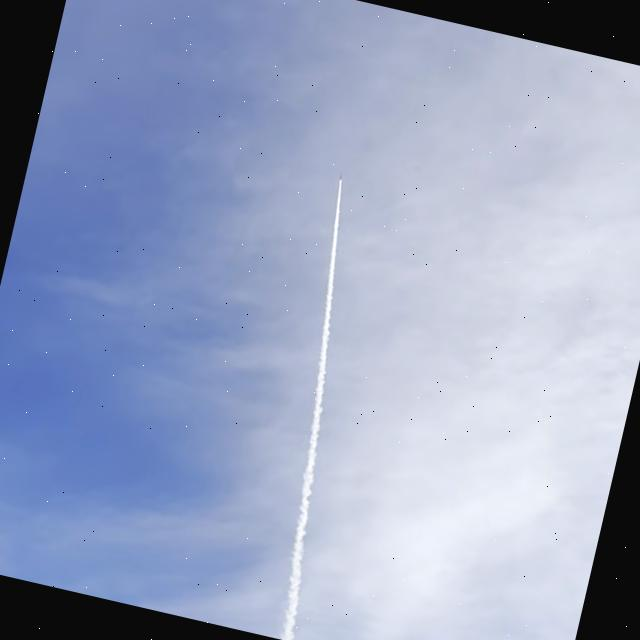smoke_trail_with_rocket: (279, 177, 340, 640)
